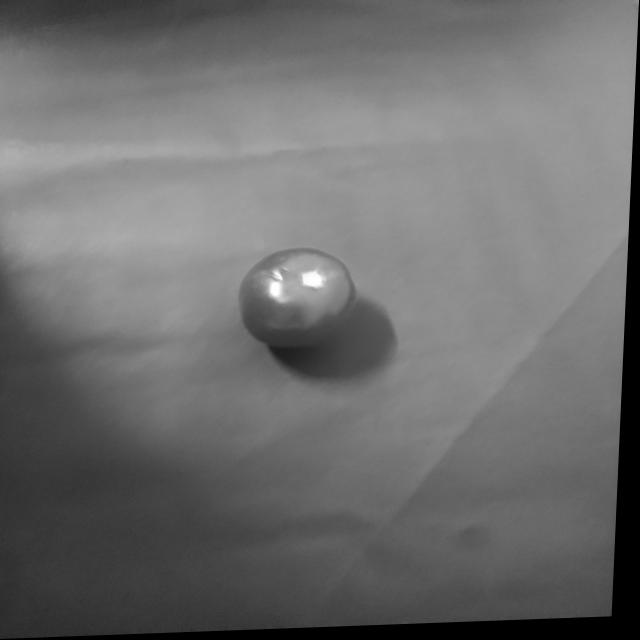kirmizi: (234, 232, 382, 375)
